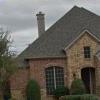Chimney: (29, 5, 53, 40)
